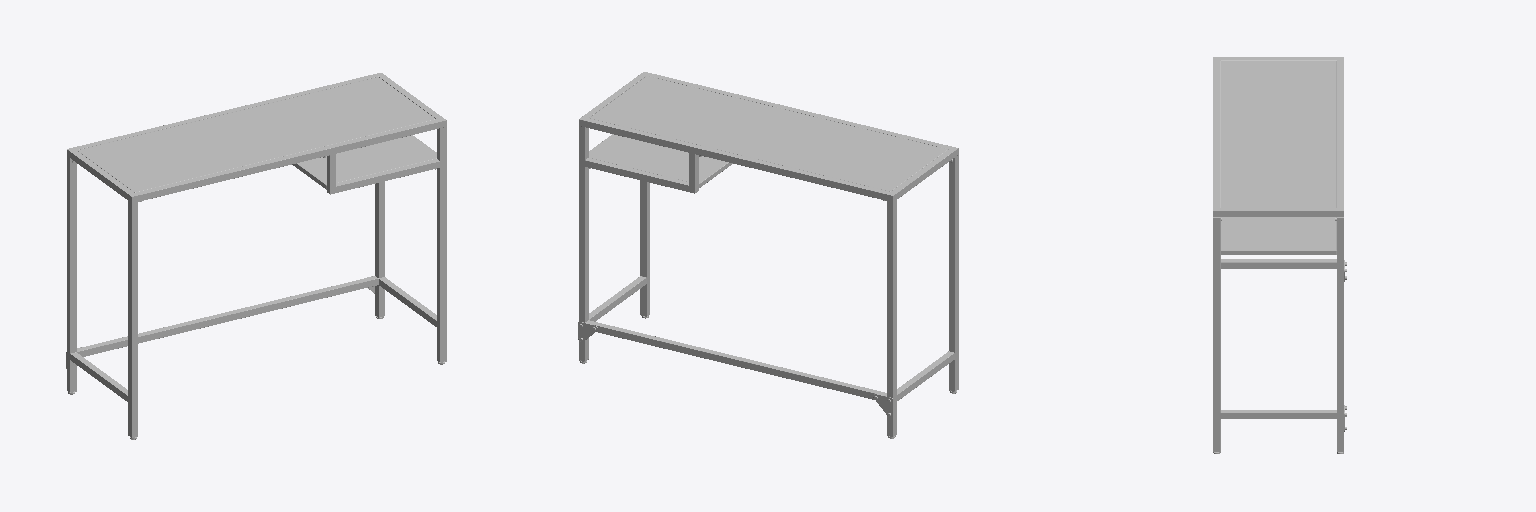
The model's file is Rack 4.obj.
3 views of the same model, side by side, from view 1: azimuth 30°, elevation 25°; view 2: azimuth 150°, elevation 25°; view 3: azimuth 270°, elevation 25° (orthographic).
Parts seen in each view (by area): view 1: Laptop_table; view 2: Laptop_table; view 3: Laptop_table.
Part boxes in pixels (bbox=[...]): Laptop_table: bbox=[66, 73, 446, 439]; Laptop_table: bbox=[578, 72, 958, 438]; Laptop_table: bbox=[1213, 57, 1346, 453].
Size of the model in its own units: 1000 by 740 by 367.